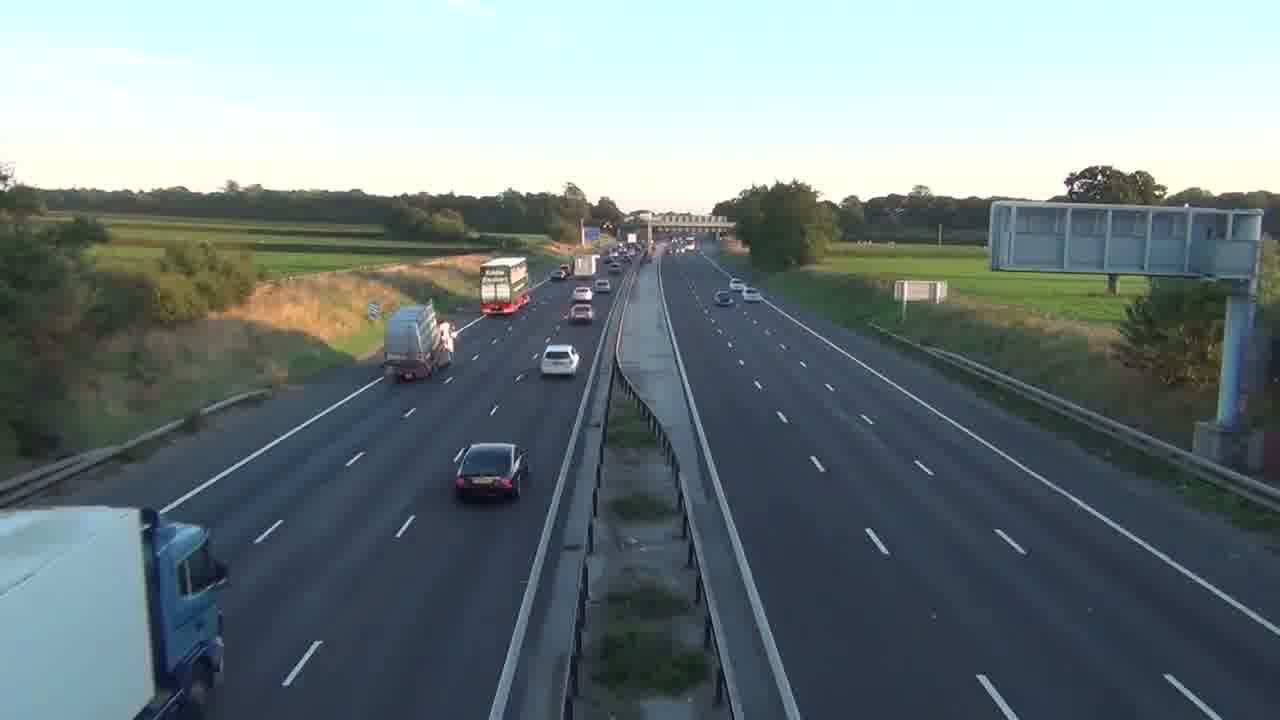car: (453, 441, 529, 503), (540, 342, 580, 376), (713, 289, 736, 306)
truck: (1, 504, 229, 714), (383, 303, 437, 383), (480, 255, 530, 316)
